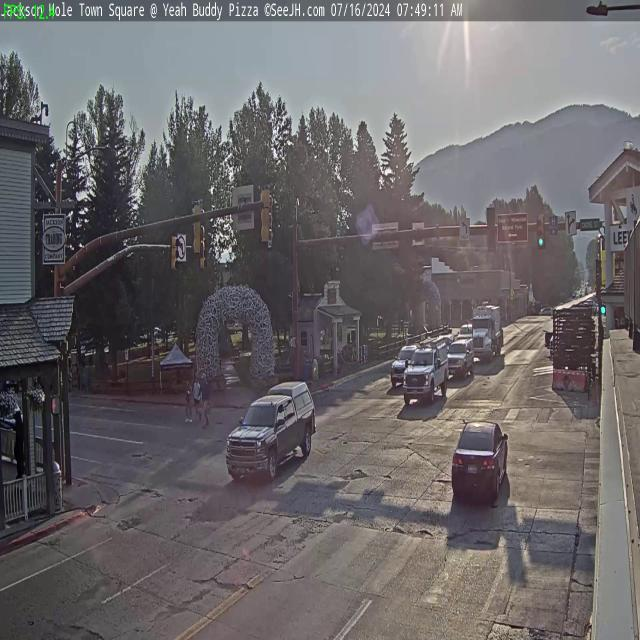person: (198, 370, 208, 429), (186, 380, 194, 421)
sedan: (452, 419, 510, 502)
suv: (445, 339, 474, 380)
traffic light: (260, 184, 272, 243), (191, 199, 203, 256), (486, 207, 496, 252), (170, 232, 178, 270), (537, 214, 545, 248)
truck: (224, 382, 318, 484), (402, 346, 448, 404), (470, 305, 504, 360)
